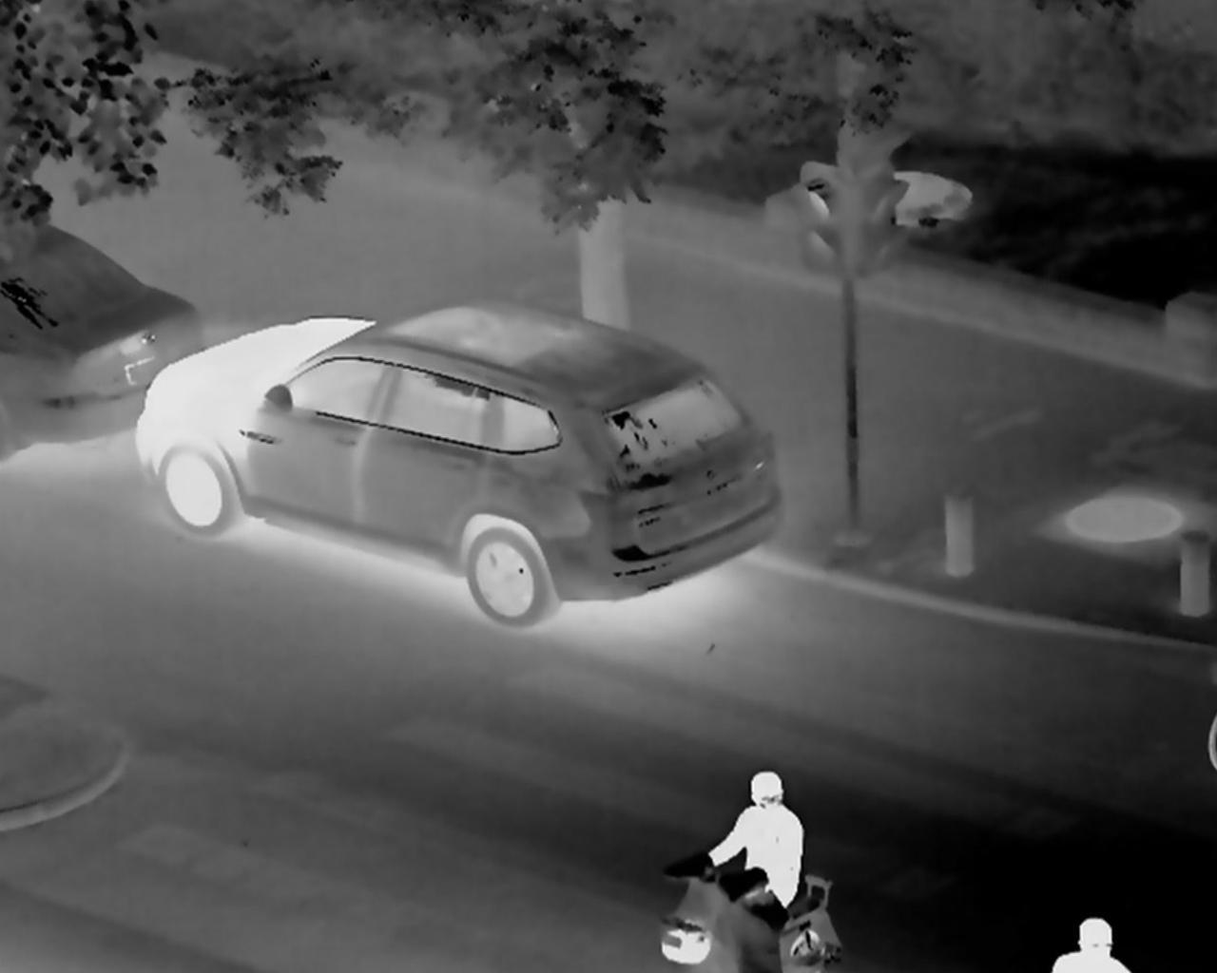person: (723, 761, 815, 939), (1050, 909, 1124, 973)
